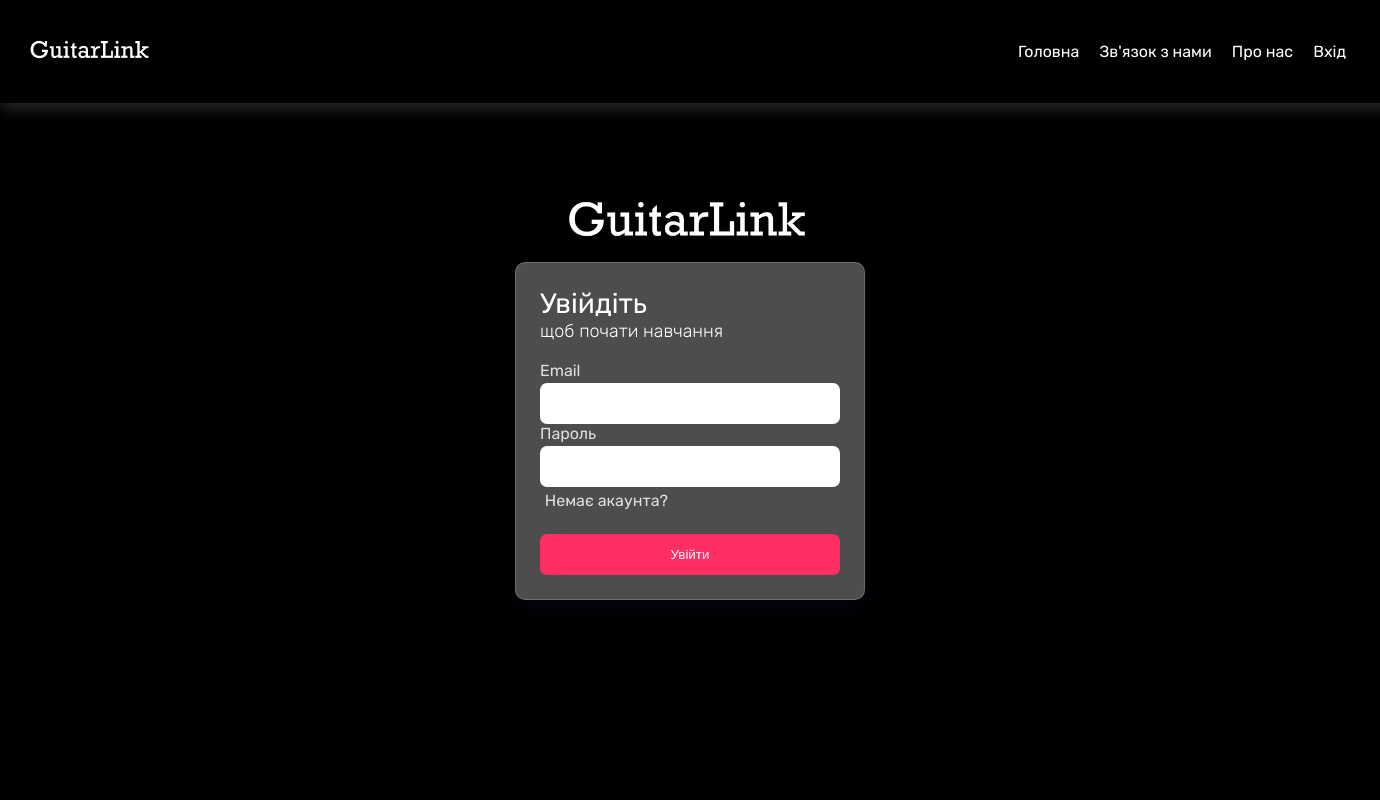
Test case: Login Component › disables submit button and shows loading text when loading
Step 1. Type "test@example.com" into the field named "email" → (690, 404), box [540,383,840,424]
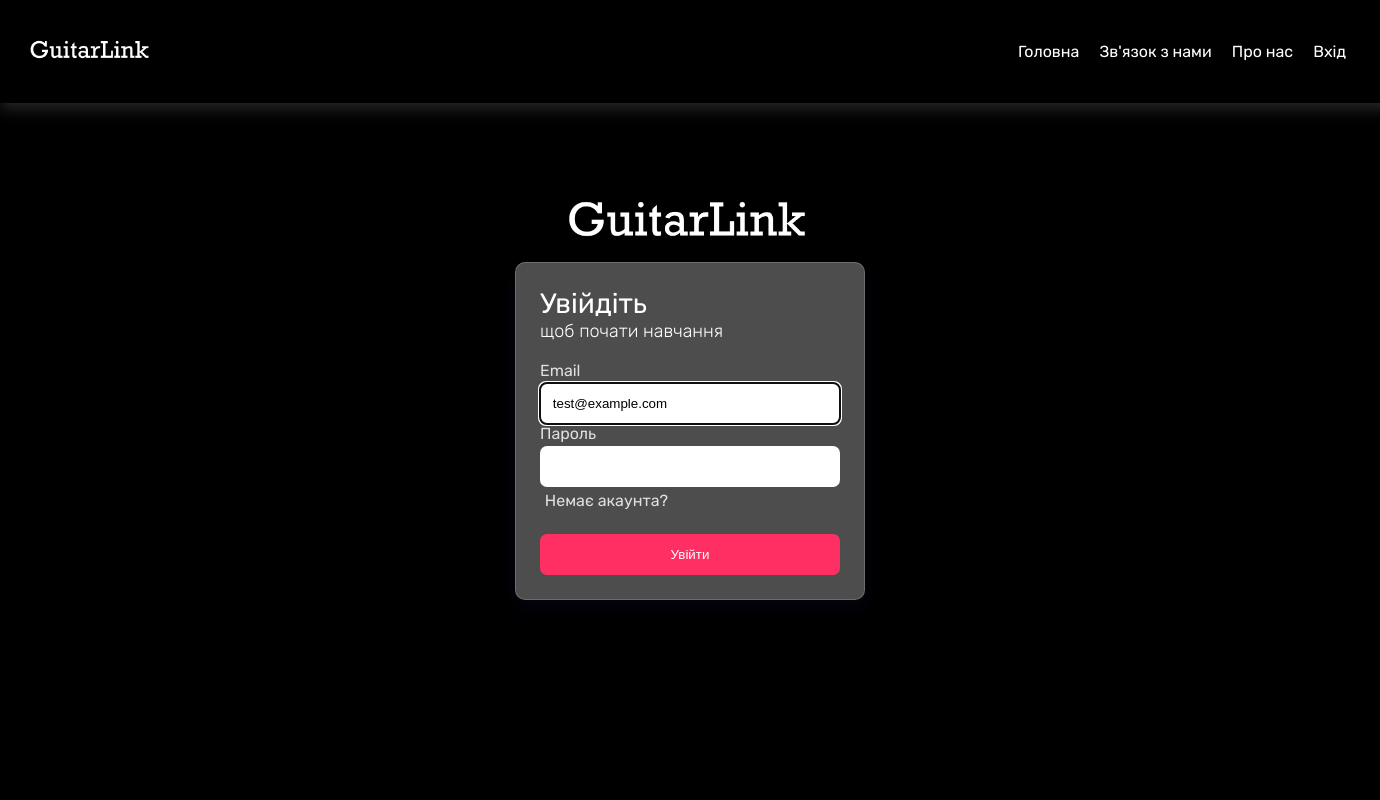
Step 2. Type "password123" into the password field named "password" → (690, 467), box [540,446,840,487]
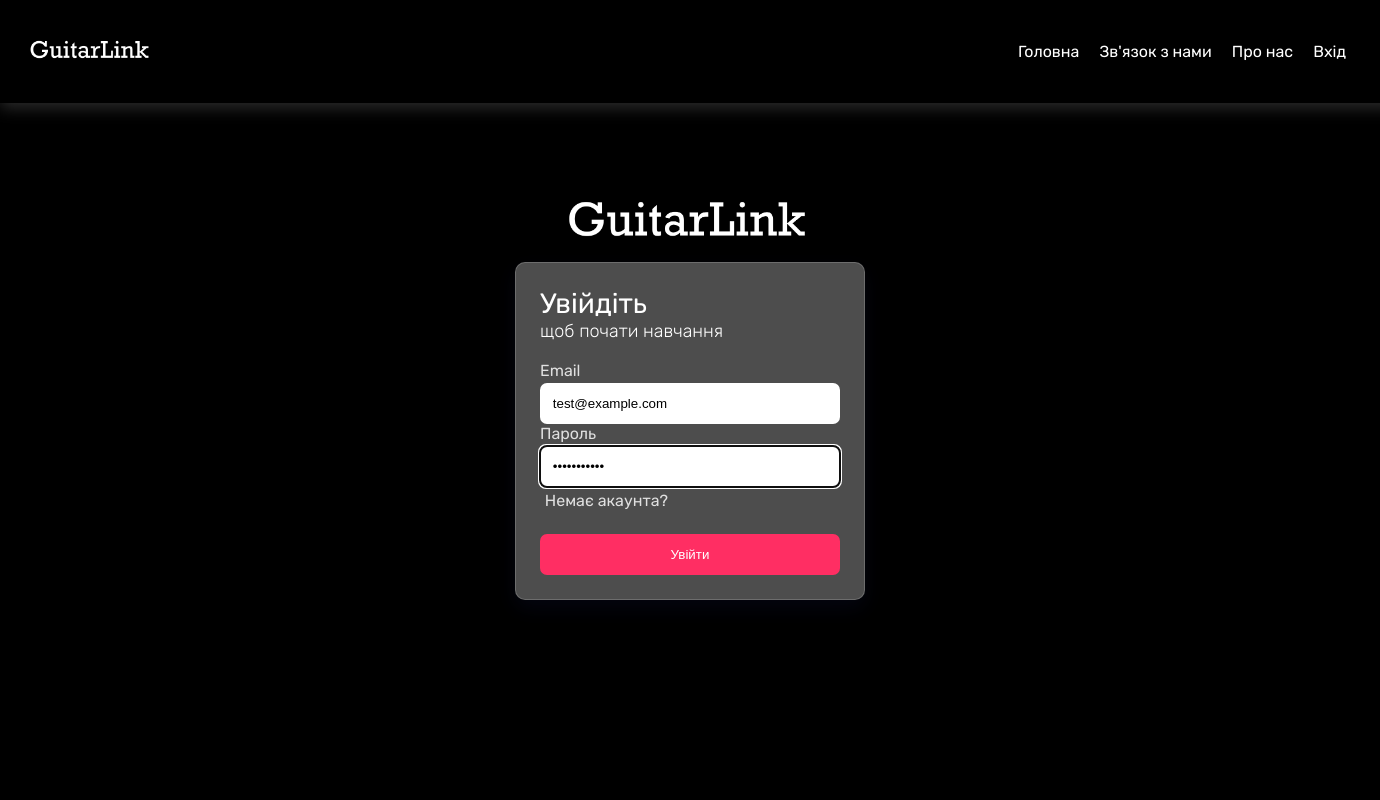
Step 3. Click the button with id "submit" → (690, 556), box [540,535,840,576]
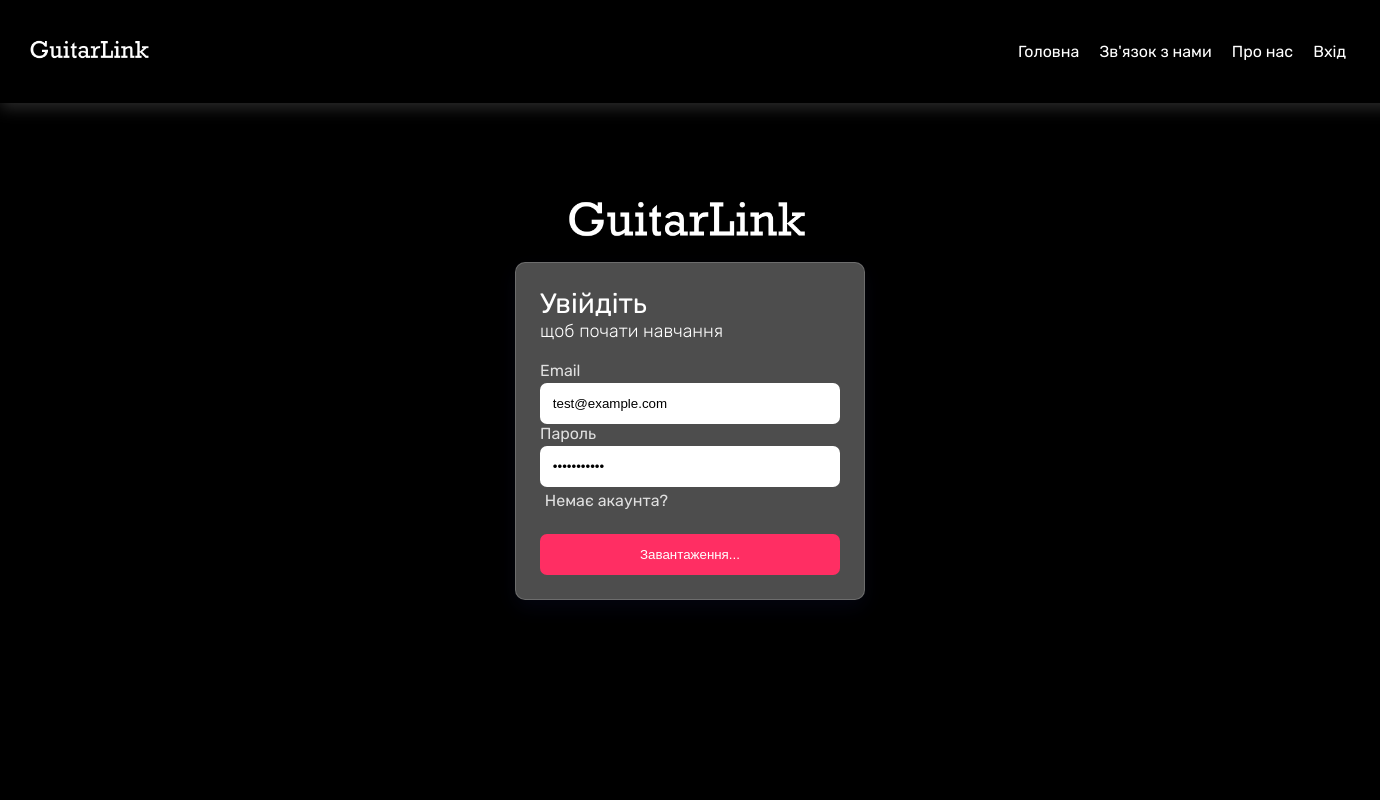
Result: the button with id "submit" is disabled at [540,535,840,576]
Result: the button with id "submit" holds "Завантаження..." at [540,535,840,576]
